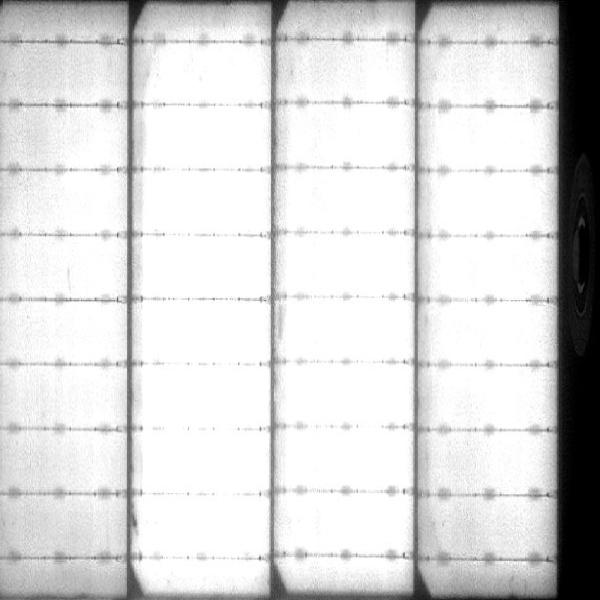hot_spot: (136, 48, 268, 589), (285, 51, 408, 584), (22, 185, 122, 492), (438, 116, 541, 162), (437, 181, 540, 227)
no_electricity: (557, 1, 600, 600)
